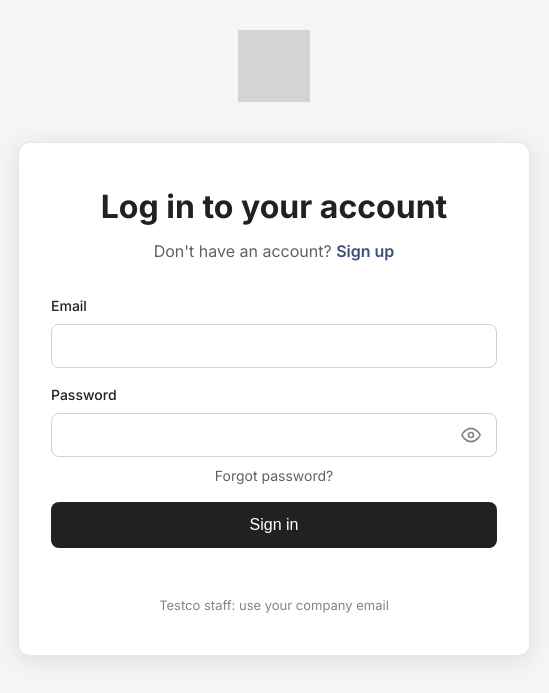
Test case: Login Page › shows validation error for empty password
This screenshot has width=549, height=693.
Type "test@example.com" into the field labelled "Email". click: coordinates (274, 346)
box: top-left (51, 324), bottom-right (497, 368)
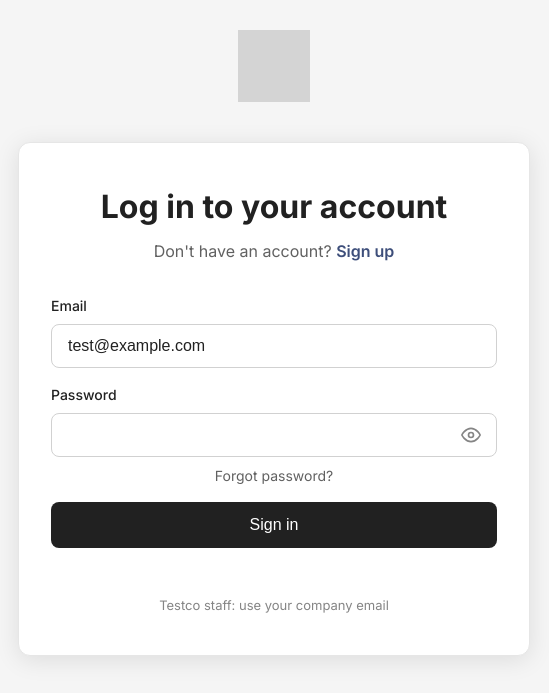
Click the button "Sign in". click: coordinates (274, 525)
box: top-left (51, 502), bottom-right (497, 548)
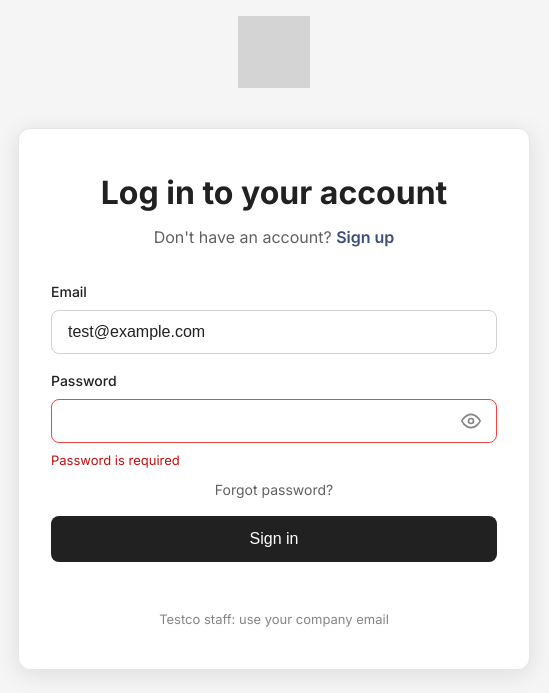
Check: the text "Password is required" is shown, box top-left (51, 452), bottom-right (180, 468)
